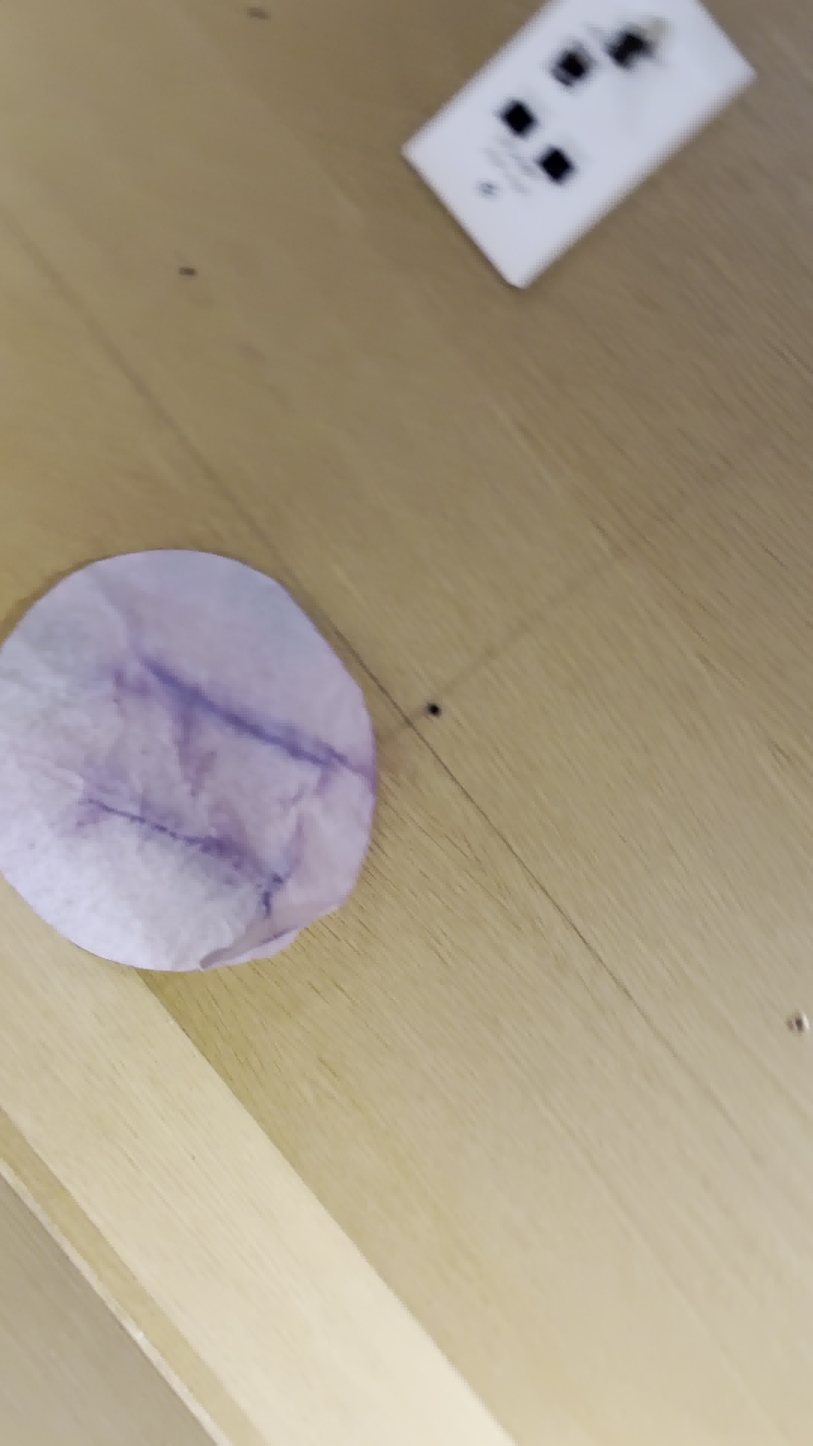Target: (0, 549, 378, 972)
